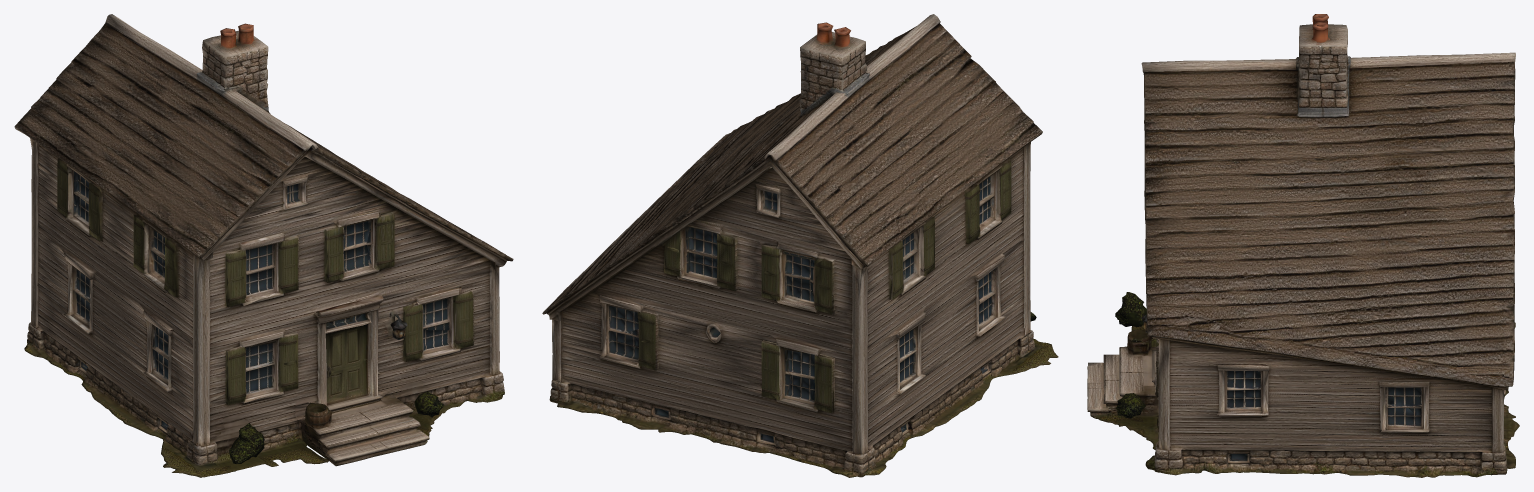
Rendered from wooden+house+3d+model.fbx.
3 renders of one model, left to right at view 1: azimuth 30°, elevation 25°; view 2: azimuth 150°, elevation 25°; view 3: azimuth 270°, elevation 25°, orthographic. The views are drawn at different scales.
Visible parts, largest first — view 1: tripo_part_1, tripo_part_3, tripo_part_0, tripo_part_4, tripo_part_5, tripo_part_13, tripo_part_6, tripo_part_12, tripo_part_19, tripo_part_2, tripo_part_21, tripo_part_15 (+6 smaller); view 2: tripo_part_1, tripo_part_3, tripo_part_0, tripo_part_7, tripo_part_6, tripo_part_14, tripo_part_9, tripo_part_16, tripo_part_2, tripo_part_21, tripo_part_8, tripo_part_26 (+4 smaller); view 3: tripo_part_3, tripo_part_1, tripo_part_0, tripo_part_6, tripo_part_5, tripo_part_18, tripo_part_17, tripo_part_11, tripo_part_15, tripo_part_20.
Boxes of the visible parts, x1=… form: tripo_part_1: x1=30, y1=138, x2=507, y2=446; tripo_part_3: x1=14, y1=14, x2=513, y2=261; tripo_part_0: x1=24, y1=322, x2=504, y2=464; tripo_part_4: x1=225, y1=214, x2=394, y2=307; tripo_part_5: x1=300, y1=395, x2=429, y2=466; tripo_part_13: x1=210, y1=333, x2=298, y2=405; tripo_part_6: x1=197, y1=23, x2=268, y2=111; tripo_part_12: x1=378, y1=290, x2=474, y2=361; tripo_part_19: x1=325, y1=322, x2=371, y2=405; tripo_part_2: x1=160, y1=437, x2=328, y2=477; tripo_part_21: x1=70, y1=266, x2=90, y2=326; tripo_part_15: x1=229, y1=423, x2=264, y2=463; tripo_part_1: x1=549, y1=142, x2=1031, y2=454; tripo_part_3: x1=542, y1=14, x2=1042, y2=314; tripo_part_0: x1=549, y1=330, x2=1034, y2=477; tripo_part_7: x1=761, y1=340, x2=852, y2=413; tripo_part_6: x1=799, y1=22, x2=869, y2=116; tripo_part_14: x1=761, y1=244, x2=834, y2=314; tripo_part_9: x1=681, y1=226, x2=737, y2=290; tripo_part_16: x1=605, y1=304, x2=658, y2=370; tripo_part_2: x1=990, y1=338, x2=1058, y2=379; tripo_part_21: x1=899, y1=327, x2=918, y2=389; tripo_part_8: x1=979, y1=172, x2=996, y2=228; tripo_part_26: x1=664, y1=230, x2=683, y2=278; tripo_part_3: x1=1141, y1=52, x2=1515, y2=387; tripo_part_1: x1=1141, y1=314, x2=1507, y2=454; tripo_part_0: x1=1145, y1=322, x2=1519, y2=477; tripo_part_6: x1=1295, y1=14, x2=1350, y2=116; tripo_part_5: x1=1087, y1=329, x2=1158, y2=416; tripo_part_18: x1=1385, y1=387, x2=1423, y2=428; tripo_part_17: x1=1224, y1=370, x2=1263, y2=410; tripo_part_11: x1=1092, y1=411, x2=1158, y2=444; tripo_part_15: x1=1115, y1=292, x2=1146, y2=326; tripo_part_20: x1=1115, y1=393, x2=1145, y2=418.
Size of the model in its own units: 0.8941 by 0.8736 by 0.9525.
